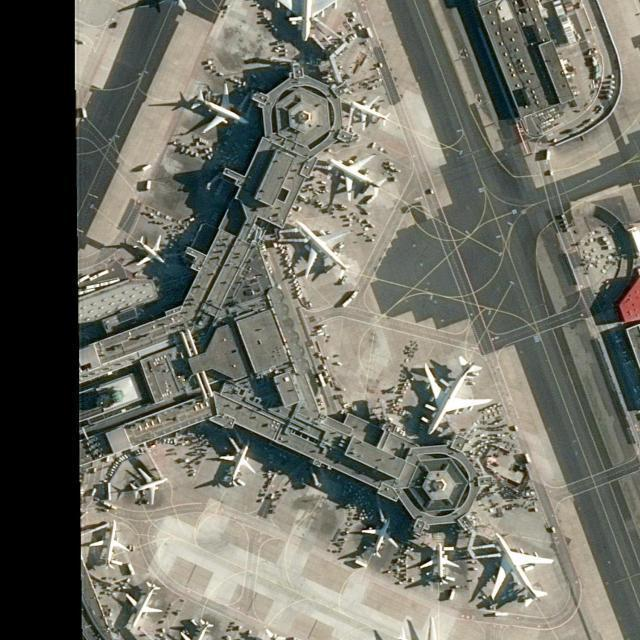Aircraft: (418, 358, 490, 436), (488, 533, 552, 610), (286, 218, 352, 282), (188, 86, 246, 138), (323, 156, 383, 203), (85, 520, 127, 574), (121, 583, 163, 634), (362, 513, 397, 561), (419, 541, 456, 586), (128, 467, 168, 507), (215, 443, 251, 485), (344, 99, 388, 133), (390, 621, 458, 640), (126, 236, 164, 268), (176, 621, 214, 640)
